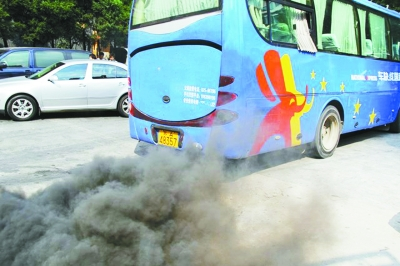smoke: (1, 154, 222, 266)
